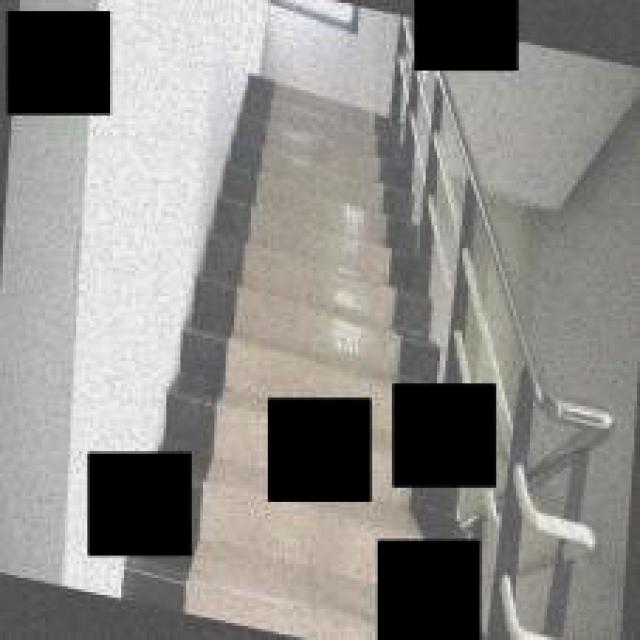upstair: (258, 55, 390, 376)
